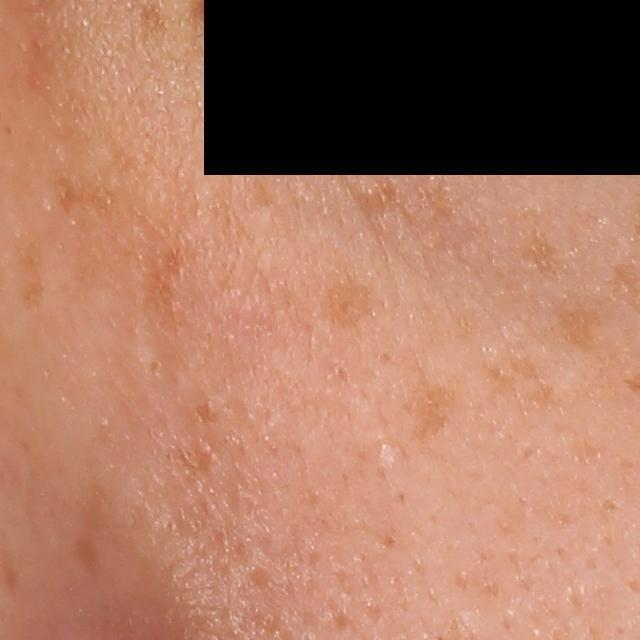melasma: (403, 369, 470, 450), (503, 348, 566, 416), (315, 273, 387, 331), (44, 168, 123, 219), (513, 225, 577, 286), (542, 292, 602, 357), (16, 232, 54, 316), (350, 178, 402, 226), (480, 357, 521, 407)
